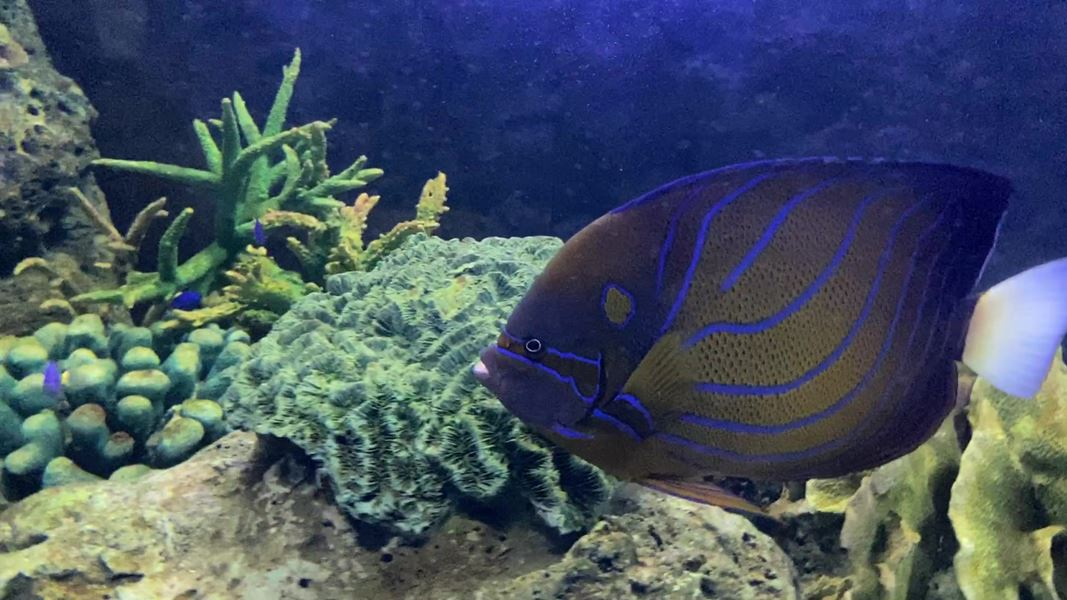Blue ring angelfish: (458, 140, 1067, 535)
